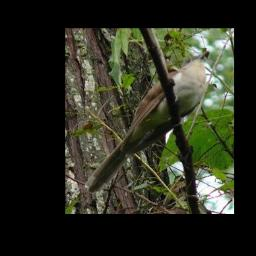Cuckoo: (84, 50, 210, 194)
